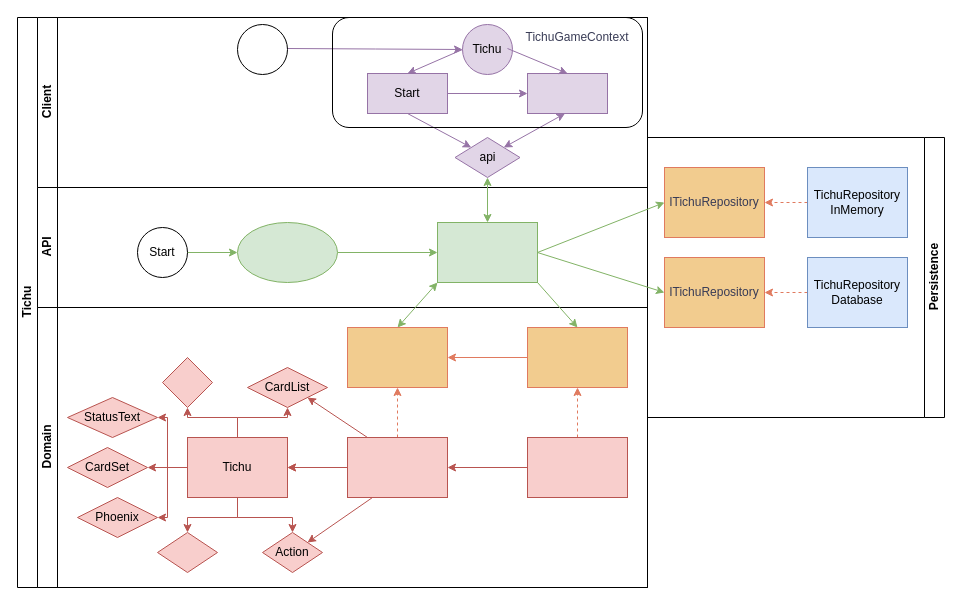
The diagram is 962 pixels wide and 605 high, and some of its shapes have lost their labels. Each missing label, with the centre of its shape:
Card: point 187,382
ITichuFacade: point 397,357
ITichuFactory: point 577,357
Play: point 567,93
Player: point 187,552
Program: point 287,252
TichuController: point 487,252
TichuFacade: point 397,467
TichuFactory: point 577,467
User: point 262,49
